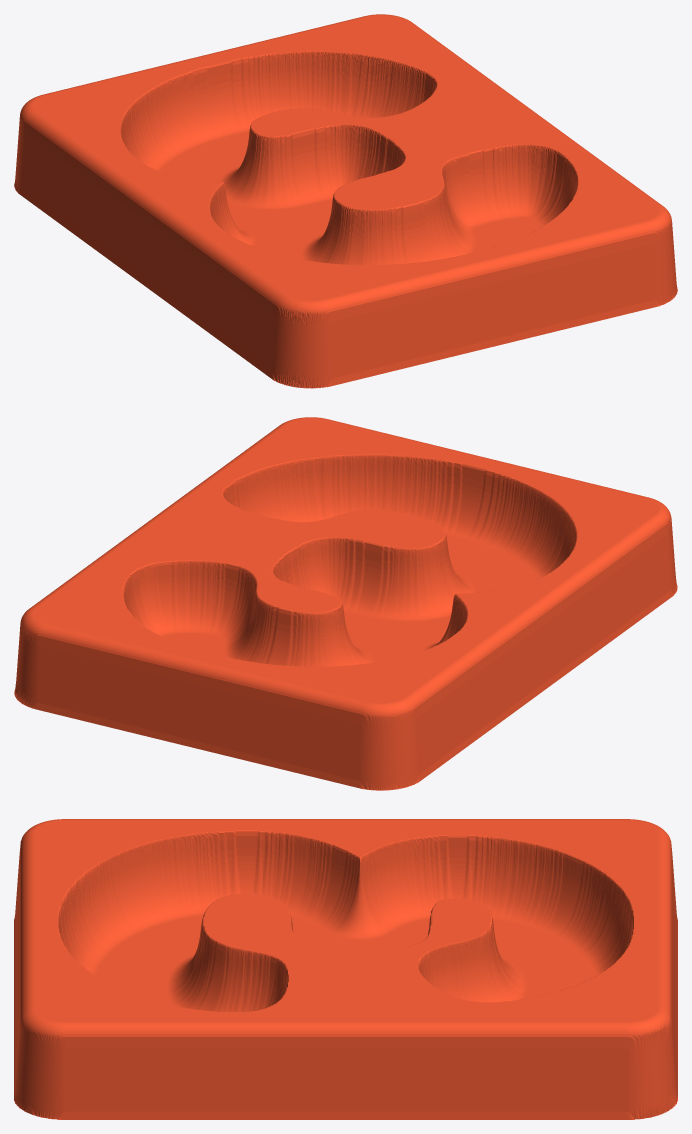
Rendered from mold.glb.
3 views of the same model, one above another, from view 1: azimuth 30°, elevation 25°; view 2: azimuth 150°, elevation 25°; view 3: azimuth 270°, elevation 25° (orthographic). The views are drawn at different scales.
Parts seen in each view (by area): view 1: geometry_0; view 2: geometry_0; view 3: geometry_0.
Boxes of the visible parts, x1=… form: geometry_0: x1=14, y1=14, x2=677, y2=388; geometry_0: x1=14, y1=417, x2=677, y2=790; geometry_0: x1=14, y1=819, x2=677, y2=1119.
Bounding box in the file's own units: 0.0918 × 0.0175 × 0.1178.
